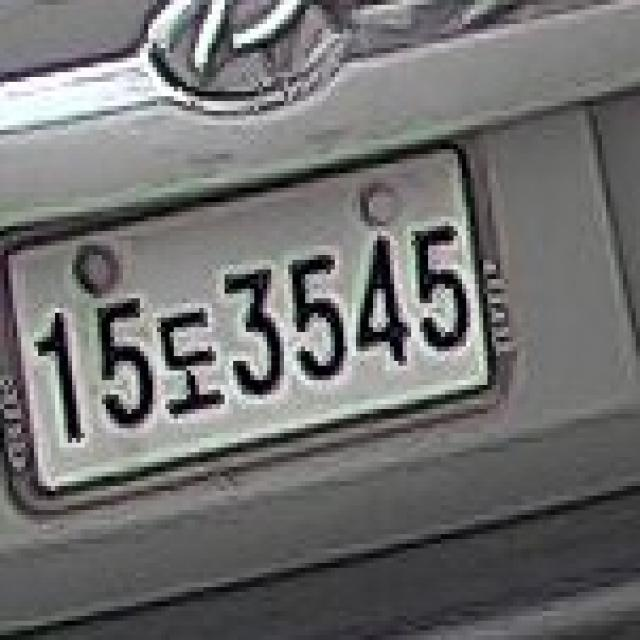1: (34, 293, 89, 462)
3: (225, 250, 284, 414)
4: (348, 221, 411, 385)
5: (89, 279, 157, 443), (411, 212, 479, 371), (288, 240, 352, 394)
do: (157, 294, 229, 433)
license_plate: (4, 130, 513, 520)
